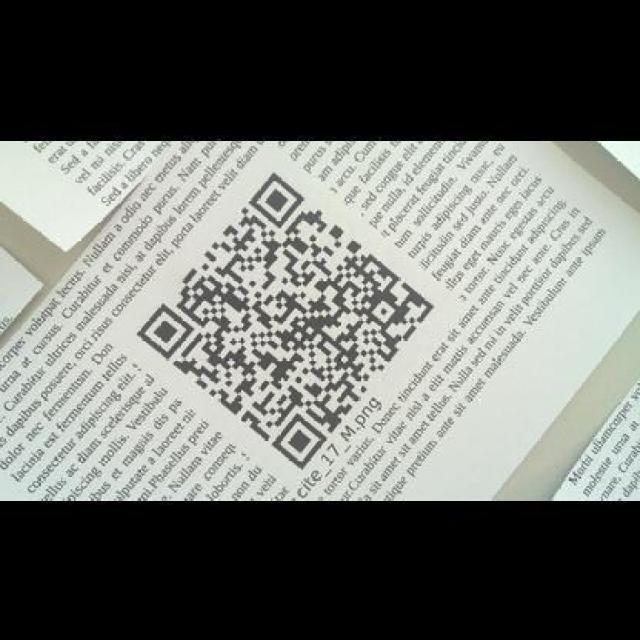QRCode: (125, 163, 441, 476)
